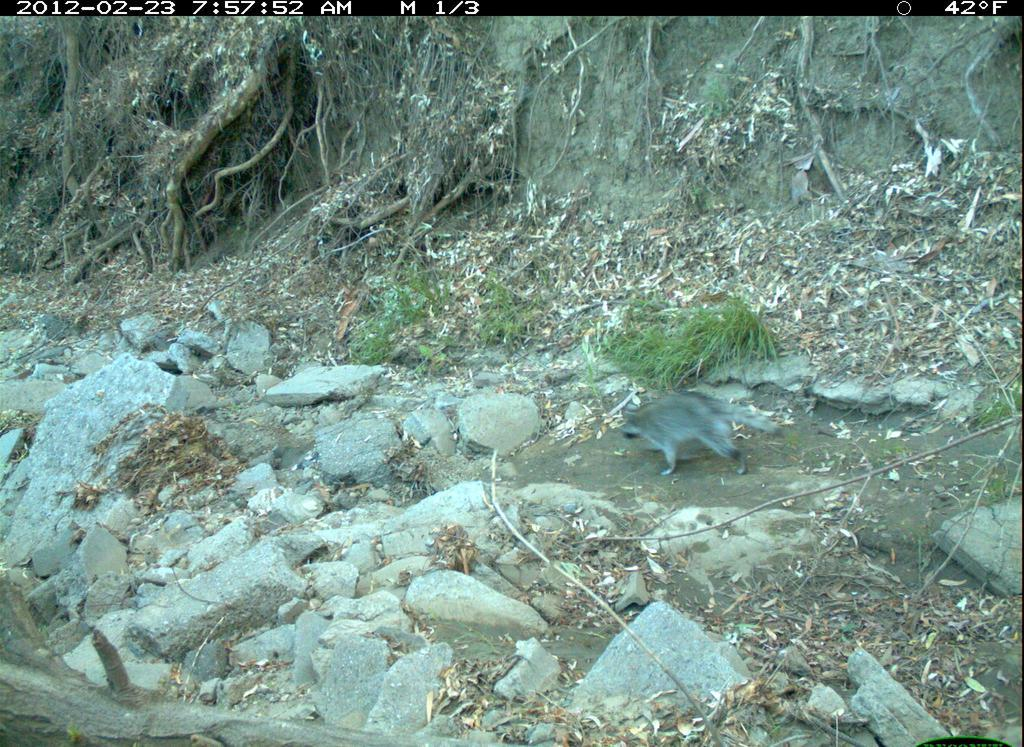raccoon: (614, 387, 781, 482)
